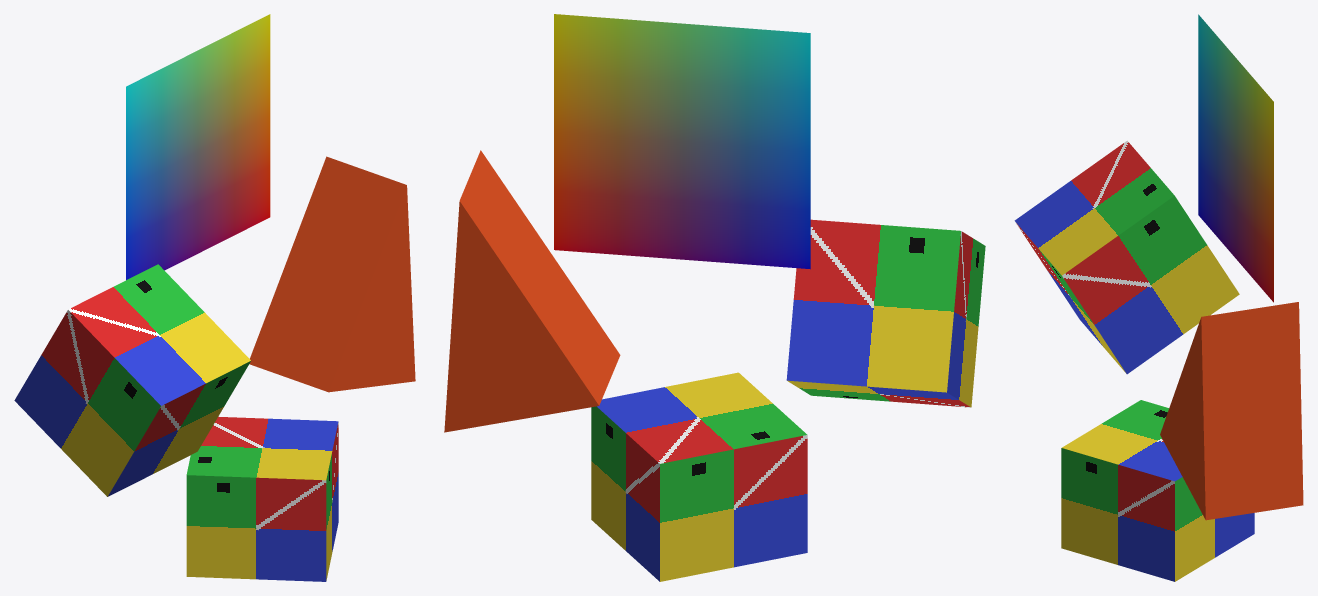
Rendered from textured_assimp_7500.fbx.
3 views of the same model, side by side, from view 1: azimuth 30°, elevation 25°; view 2: azimuth 150°, elevation 25°; view 3: azimuth 270°, elevation 25° (orthographic). The views are drawn at different scales.
Visible parts, largest first — view 1: box_node, panel_node, wedge_node, mirrored_box; view 2: panel_node, mirrored_box, box_node, wedge_node; view 3: box_node, wedge_node, mirrored_box, panel_node.
Part boxes in pixels (box(x1,y1,x2,y2)): box_node: box(14, 264, 250, 496); panel_node: box(126, 14, 270, 279); wedge_node: box(249, 156, 415, 392); mirrored_box: box(186, 416, 338, 581); panel_node: box(554, 14, 810, 269); mirrored_box: box(591, 372, 807, 581); box_node: box(786, 219, 985, 407); wedge_node: box(444, 150, 620, 432); box_node: box(1014, 140, 1239, 374); wedge_node: box(1160, 302, 1303, 520); mirrored_box: box(1061, 400, 1254, 581); panel_node: box(1198, 14, 1273, 302).
Size of the model in its own units: 3.36 by 3.75 by 2.08.
3 materials, 1 textured.
